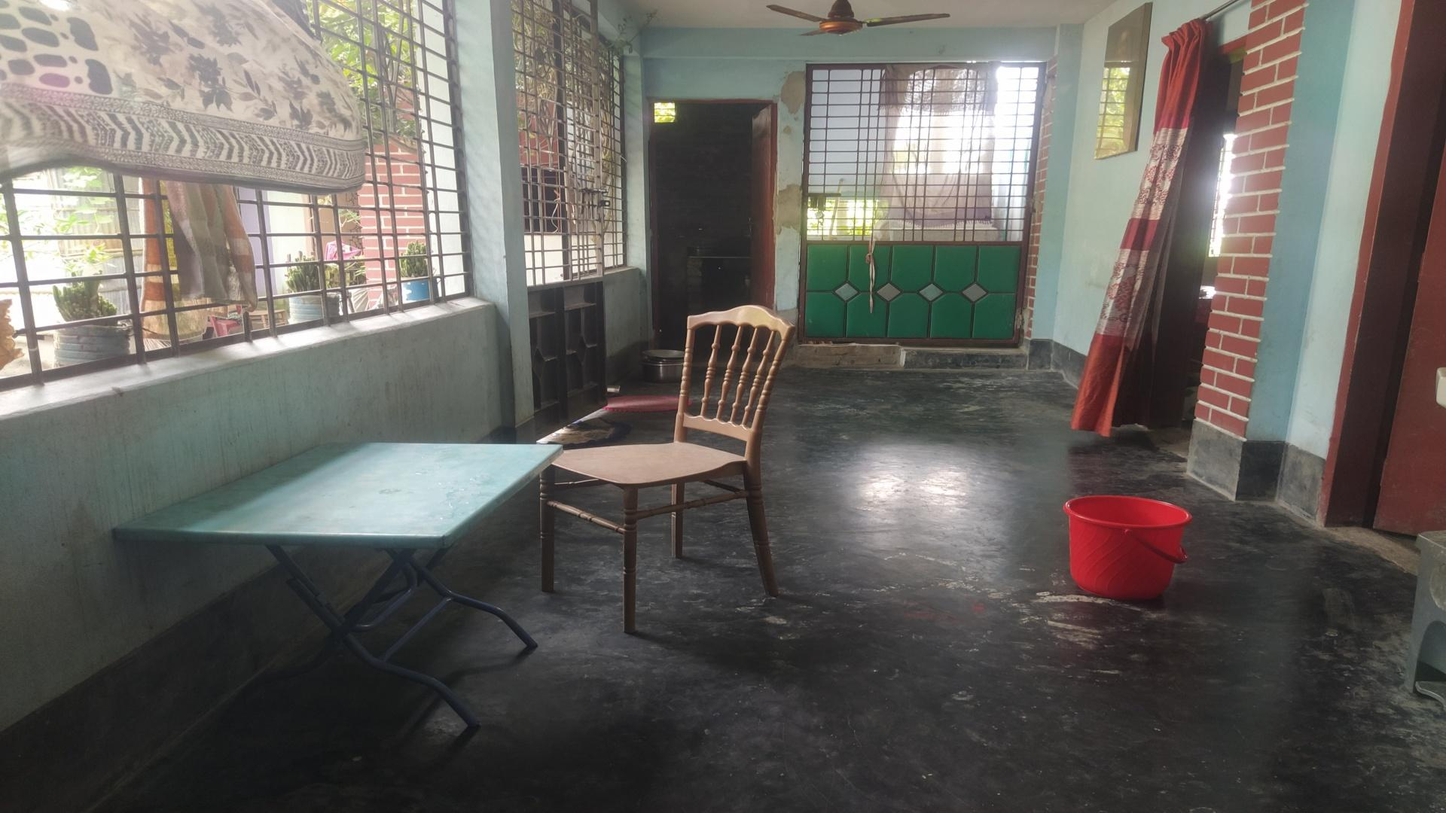Bucket: (1065, 489, 1189, 602)
Chair: (536, 322, 793, 625)
Door: (804, 61, 1024, 346), (647, 97, 778, 357)
Table: (114, 444, 569, 723)
